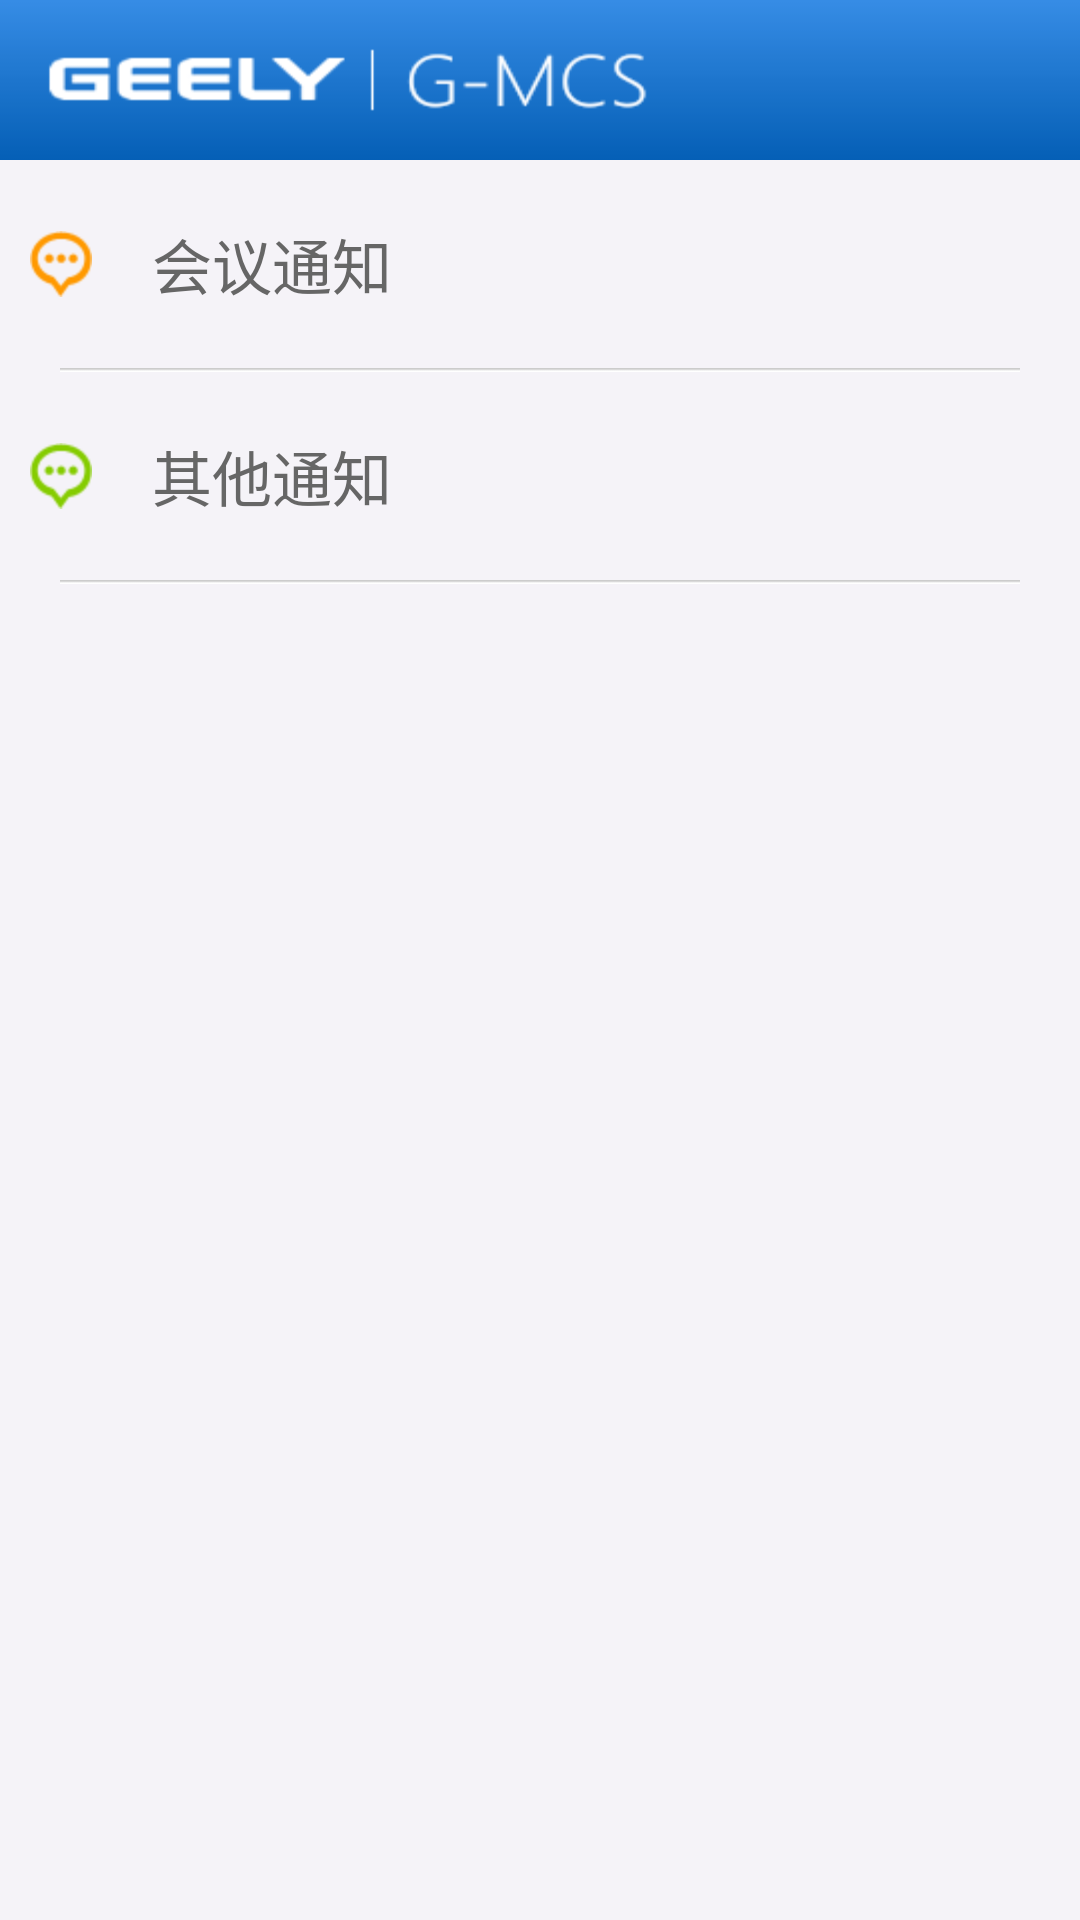

Where to tap for icons on this 1080px×1920px app screen, as (x,y):
meeting: (61,264)
other meeting: (61,476)
